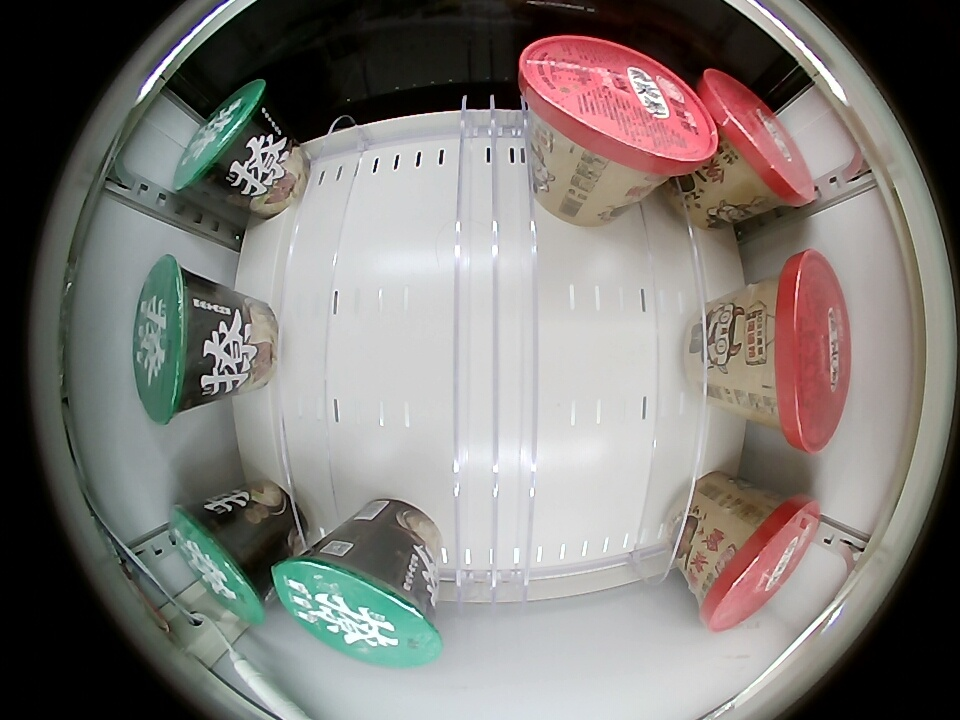liaomian: (272, 542, 441, 666), (134, 254, 216, 424), (170, 500, 270, 624), (173, 79, 277, 198)
suanlafen: (521, 34, 717, 185), (741, 251, 851, 451), (697, 493, 819, 631), (699, 68, 816, 210)
